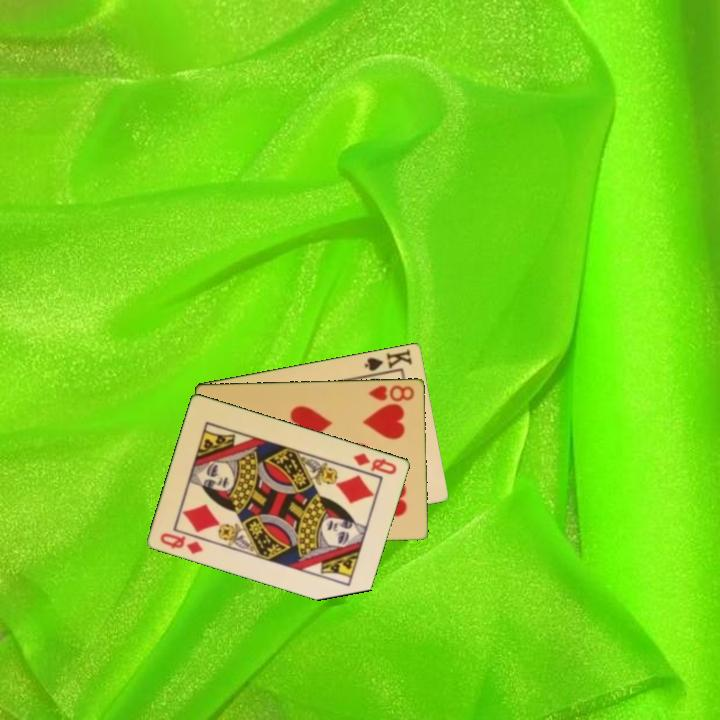8h: (365, 381, 417, 404)
Ks: (361, 345, 415, 374)
Qd: (349, 449, 400, 477), (157, 529, 207, 557)
